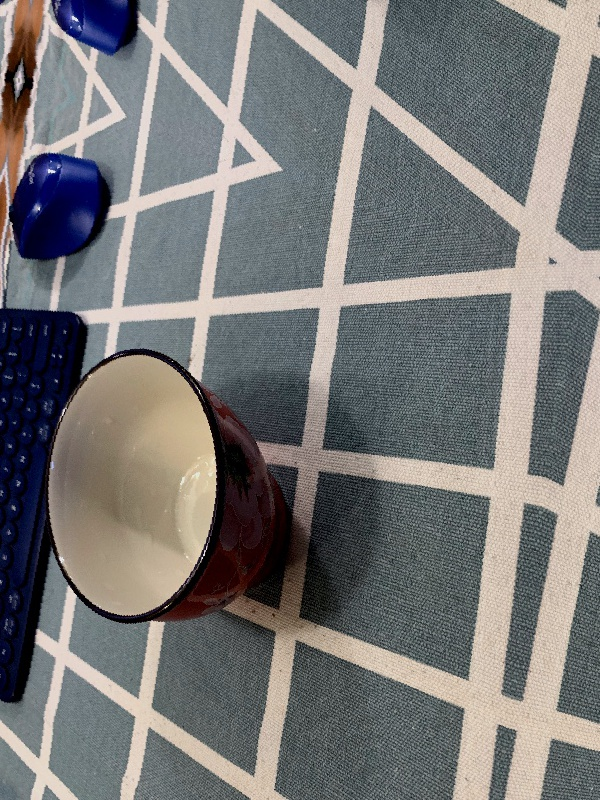bowl_small: (21, 311, 317, 680)
